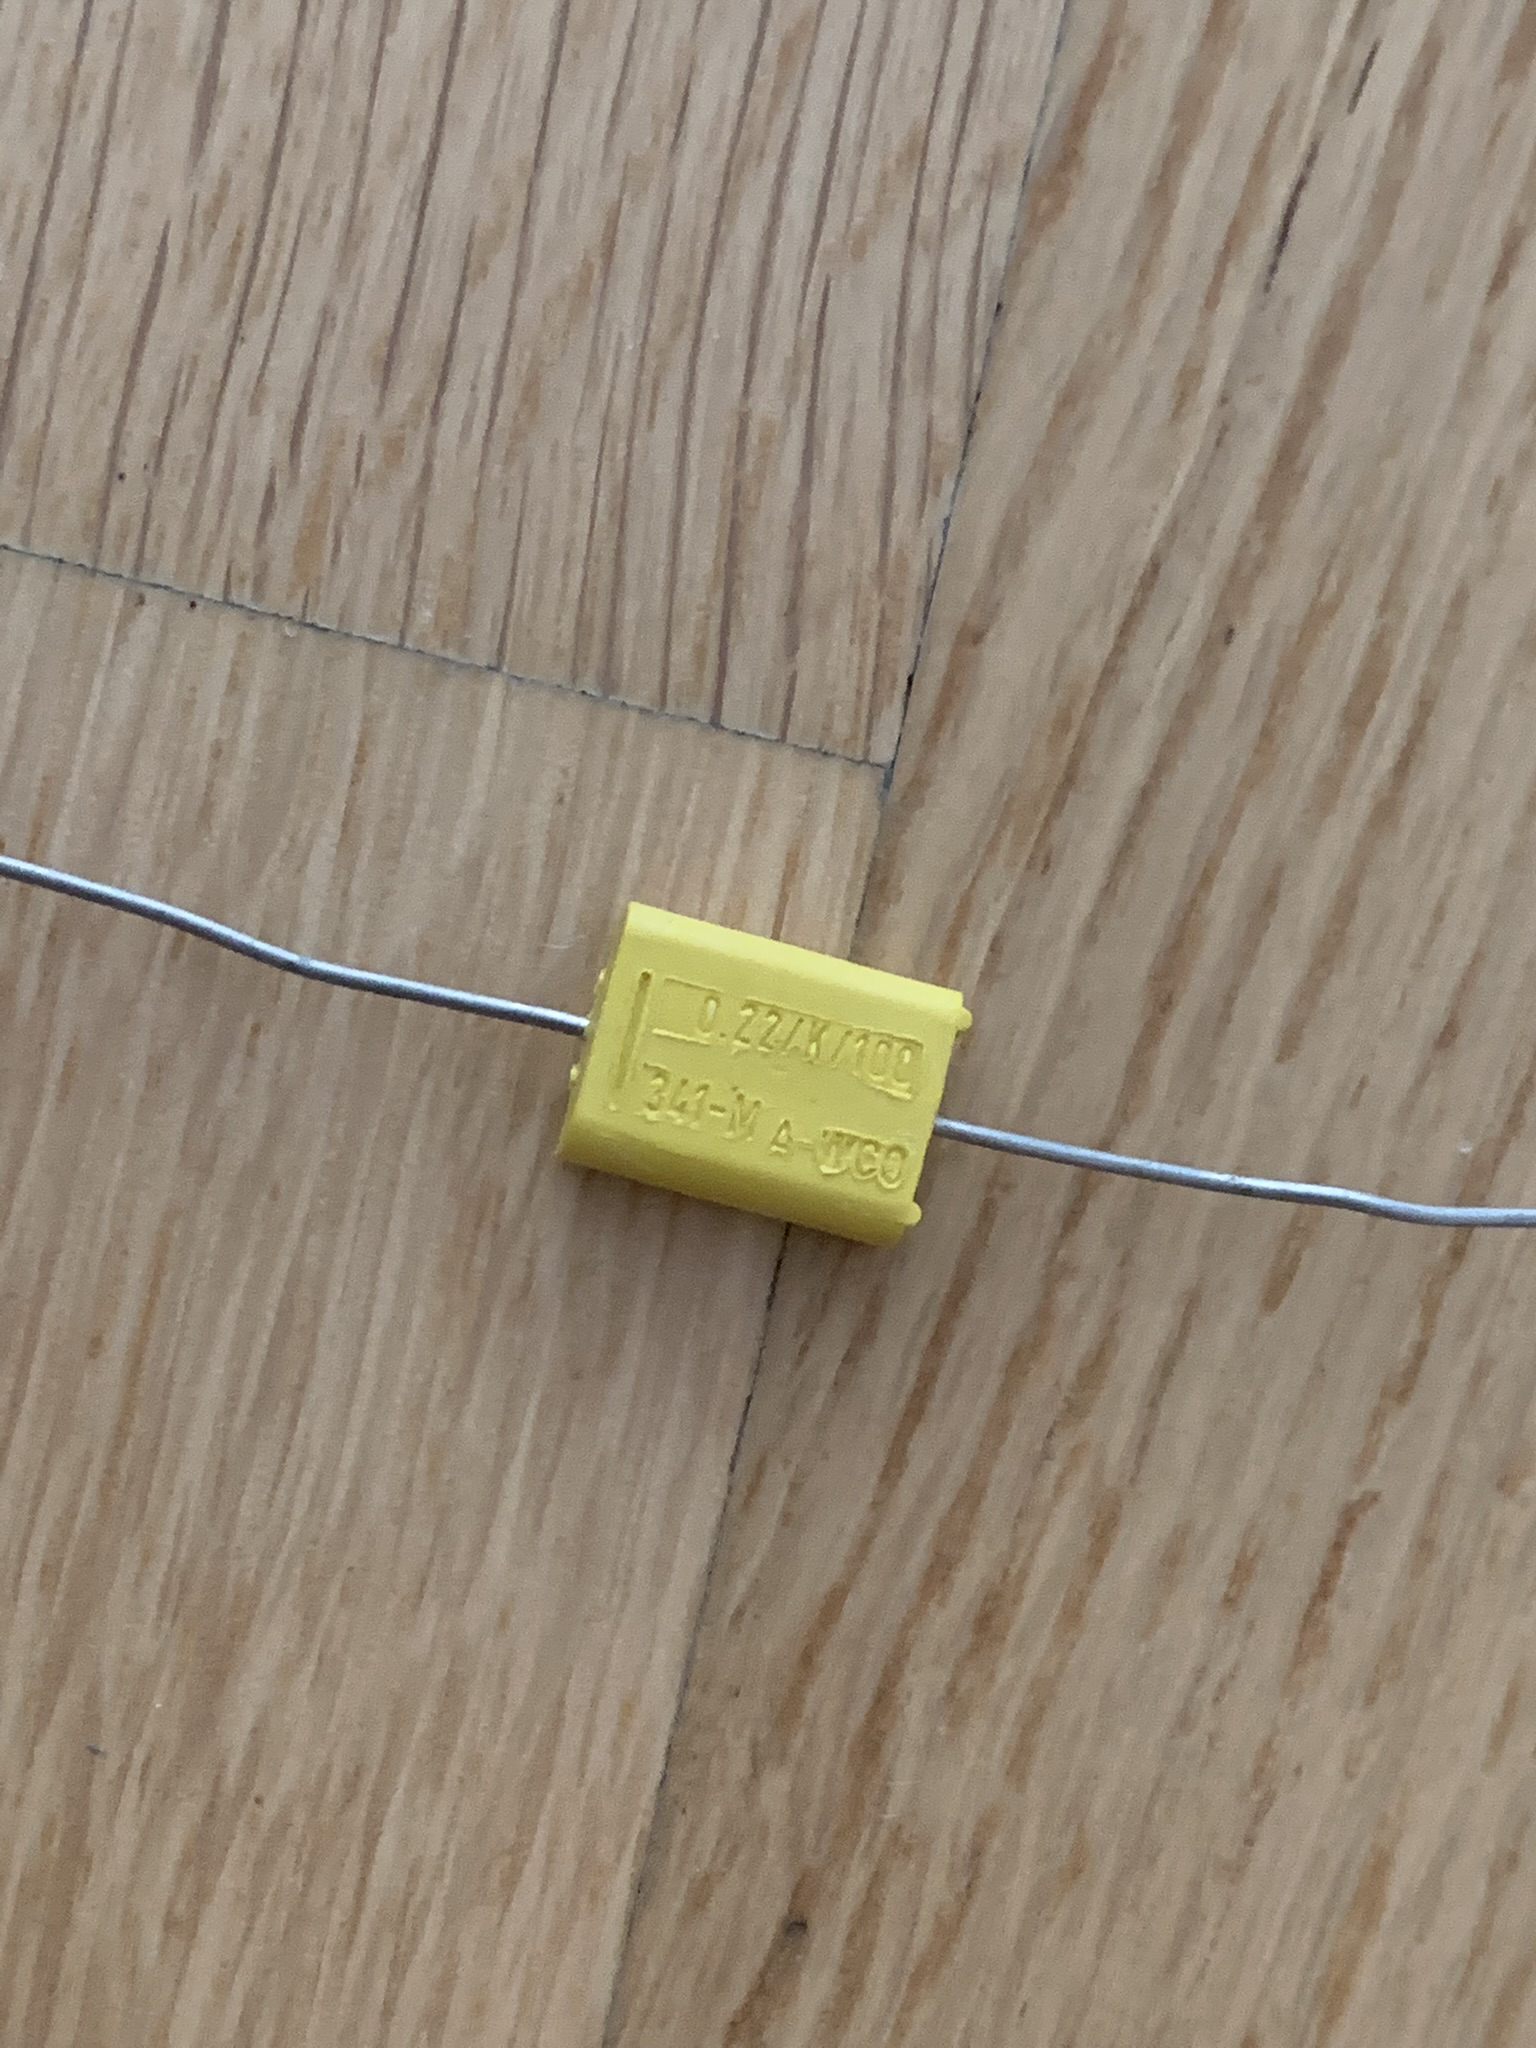capacitor_thd_f: (552, 901, 975, 1243)
